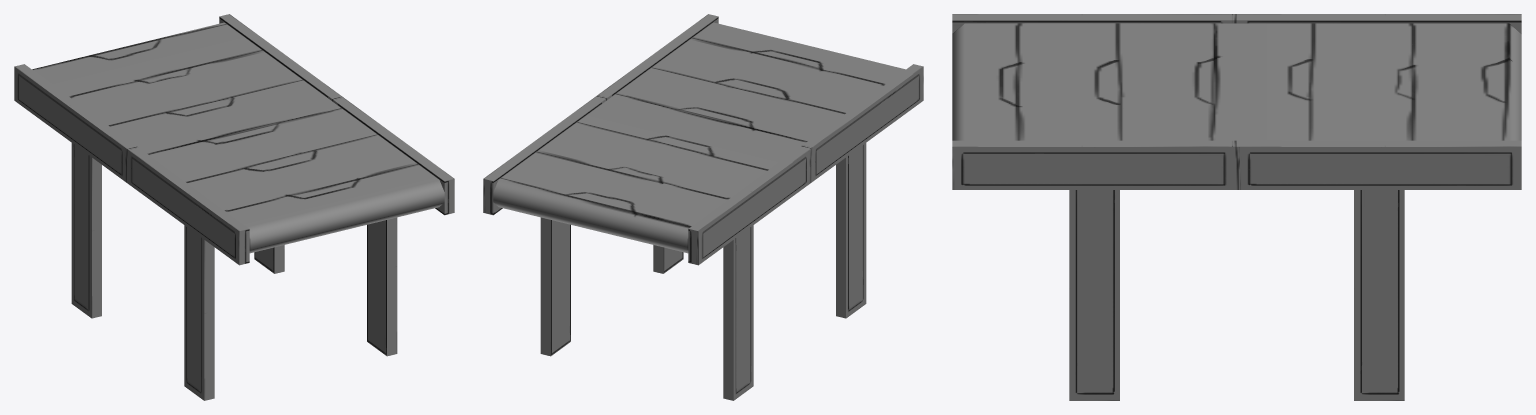
The model's file is conveyor_x2.fbx.
The picture shows the model from 3 angles, left to right: view 1: azimuth 30°, elevation 25°; view 2: azimuth 150°, elevation 25°; view 3: azimuth 270°, elevation 25°; orthographic projection. The views are drawn at different scales.
Parts seen in each view (by area): view 1: conveyor_x2; view 2: conveyor_x2; view 3: conveyor_x2.
Boxes of the visible parts, x1,y1,x2,y2 form: conveyor_x2: (14,14,454,400); conveyor_x2: (483,14,923,400); conveyor_x2: (952,14,1521,400).
Size of the model in its own units: 1.1 by 2 by 1.01.
